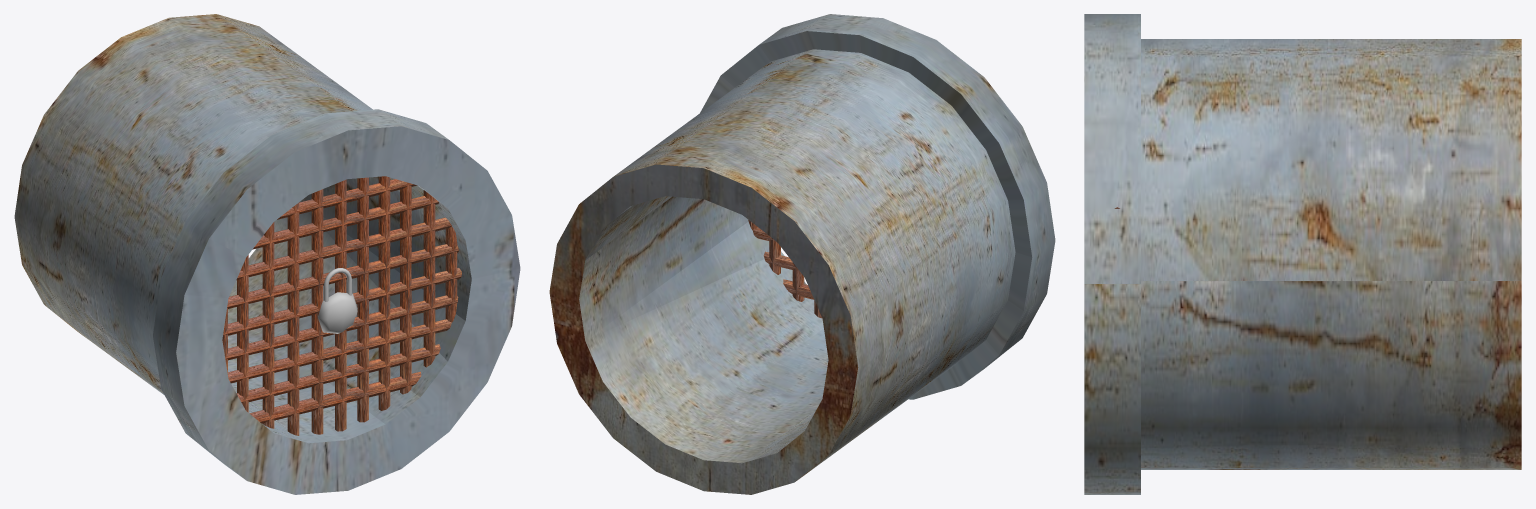
File: PipeWithLock.fbx
The picture shows the model from 3 angles, left to right: view 1: azimuth 30°, elevation 25°; view 2: azimuth 150°, elevation 25°; view 3: azimuth 270°, elevation 25°; orthographic projection. The views are drawn at different scales.
Parts seen in each view (by area): view 1: pCylinder3, polySurface26, polySurface36; view 2: pCylinder3, polySurface26; view 3: pCylinder3.
Part boxes in pixels (x1,y1,x2,y2): pCylinder3: (14, 14, 520, 494); polySurface26: (223, 176, 461, 435); polySurface36: (237, 255, 248, 412); pCylinder3: (549, 14, 1055, 494); polySurface26: (748, 220, 822, 318); pCylinder3: (1084, 14, 1521, 494).
Bounding box in the file's own units: 7.04 × 7.04 × 6.35.
